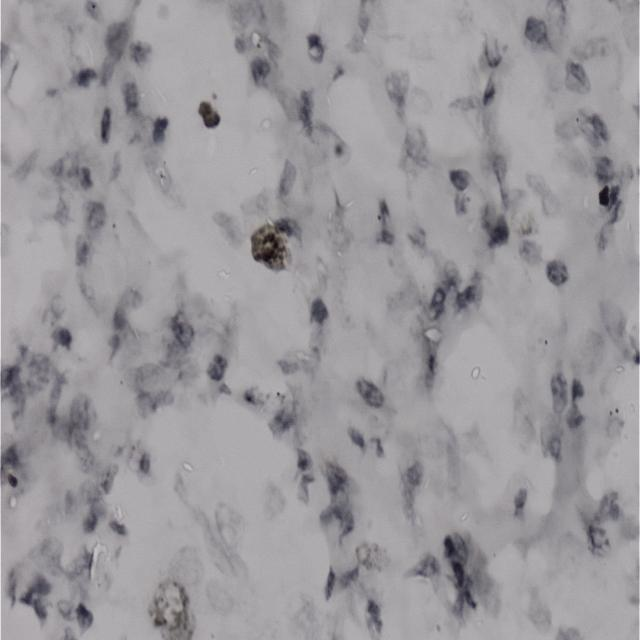Healthy cell: (66, 473, 116, 532), (107, 285, 146, 359), (129, 359, 178, 415), (67, 553, 115, 606), (399, 122, 439, 184), (292, 442, 325, 511), (326, 460, 354, 540), (114, 422, 150, 478), (203, 206, 242, 256), (227, 0, 289, 30), (526, 590, 562, 640), (483, 193, 507, 265), (386, 68, 418, 122), (66, 432, 109, 472), (94, 16, 122, 76), (49, 148, 90, 186), (66, 232, 104, 271), (356, 583, 382, 640), (59, 394, 94, 434), (270, 400, 305, 438), (456, 274, 485, 318), (202, 348, 232, 388), (285, 89, 316, 127), (47, 189, 75, 229), (116, 73, 145, 110), (232, 33, 280, 55), (342, 423, 373, 455), (82, 194, 110, 228), (124, 32, 152, 63), (519, 233, 543, 267), (512, 484, 532, 522), (479, 30, 498, 69)
cancer-cell-QiJm: (443, 526, 496, 621), (0, 347, 42, 421), (151, 581, 189, 640), (249, 226, 297, 271), (580, 490, 622, 538), (0, 446, 33, 501), (192, 88, 229, 130), (23, 568, 53, 618), (77, 596, 111, 640), (354, 376, 392, 415), (538, 0, 569, 43), (543, 249, 576, 289), (580, 106, 610, 146), (165, 307, 192, 349), (62, 62, 101, 90), (523, 12, 548, 54), (569, 379, 591, 426), (589, 529, 620, 561), (52, 316, 78, 354), (552, 370, 573, 416), (243, 54, 269, 90), (146, 106, 171, 143), (546, 418, 569, 458), (594, 188, 624, 218), (590, 149, 612, 189), (95, 102, 115, 145), (304, 295, 328, 328), (567, 63, 587, 102), (449, 155, 469, 193), (306, 29, 325, 66)
